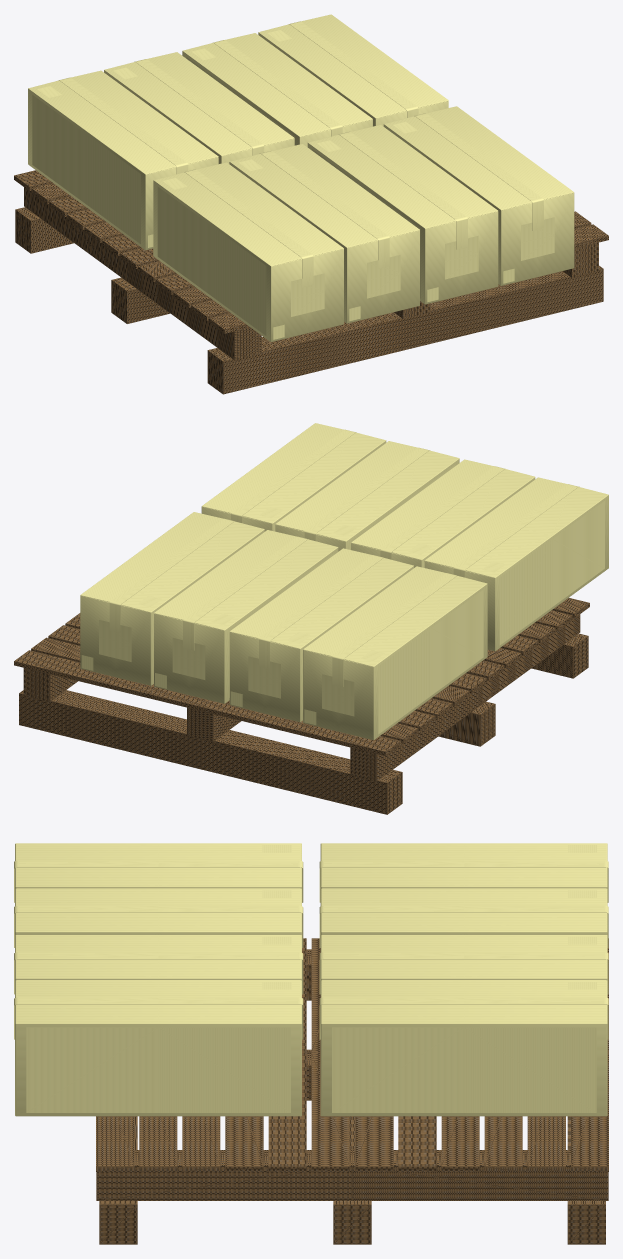
The model's file is Neoflycargo_urgent_l_1.gltf.
3 renders of one model, top to bottom at view 1: azimuth 30°, elevation 25°; view 2: azimuth 150°, elevation 25°; view 3: azimuth 270°, elevation 25°, orthographic. The views are drawn at different scales.
Parts seen in each view (by area): view 1: Neoflycargo06 x1.001, Neoflycargo00; view 2: Neoflycargo06 x1.001, Neoflycargo00; view 3: Neoflycargo06 x1.001, Neoflycargo00.
Boxes of the visible parts, x1=… form: Neoflycargo06 x1.001: x1=28, y1=14, x2=574, y2=341; Neoflycargo00: x1=14, y1=170, x2=608, y2=394; Neoflycargo06 x1.001: x1=80, y1=423, x2=608, y2=740; Neoflycargo00: x1=14, y1=598, x2=589, y2=814; Neoflycargo06 x1.001: x1=14, y1=843, x2=608, y2=1116; Neoflycargo00: x1=96, y1=938, x2=608, y2=1244.
Size of the model in its own units: 1.28 by 0.4831 by 1.41.
